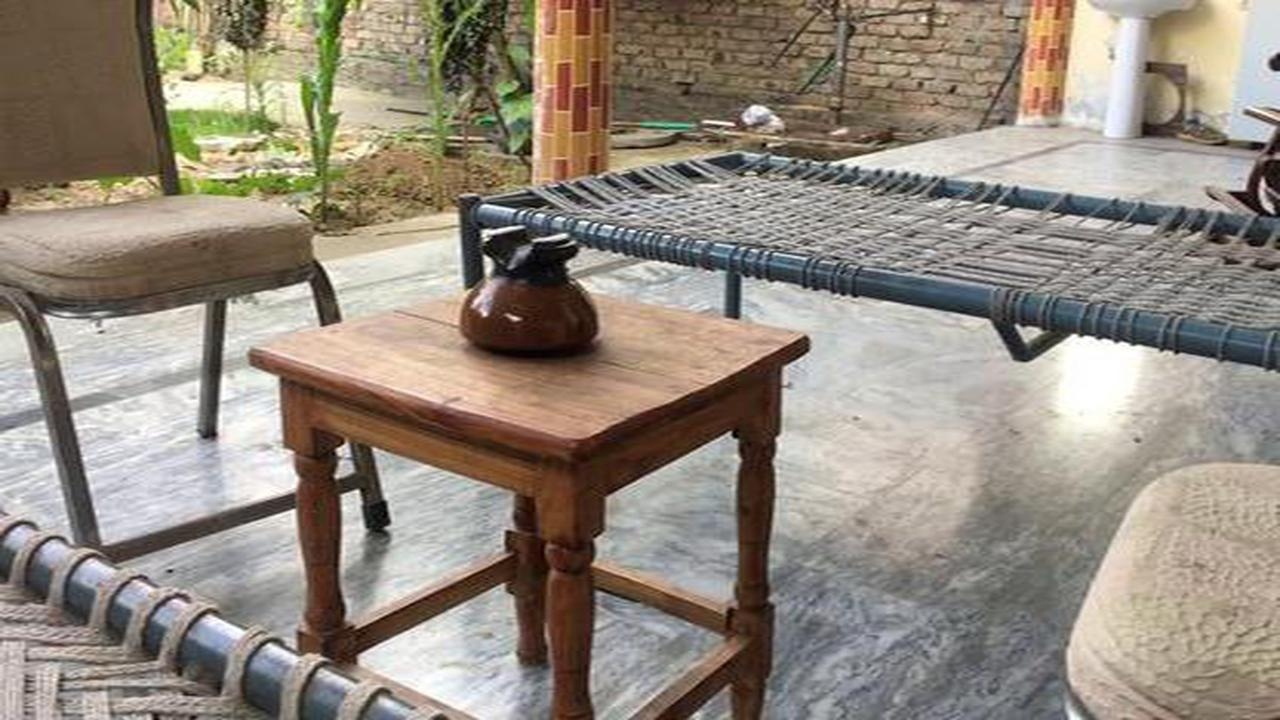insulator_pin: (444, 212, 613, 364)
